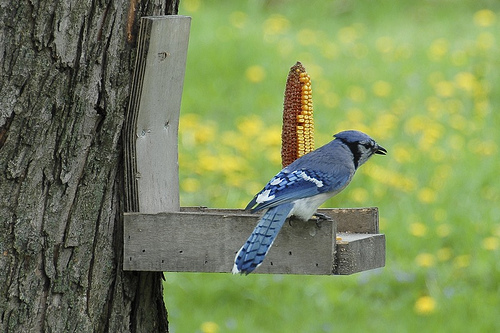corn: (279, 61, 317, 169)
